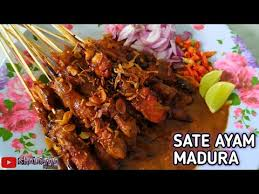sate: (20, 29, 239, 170)
